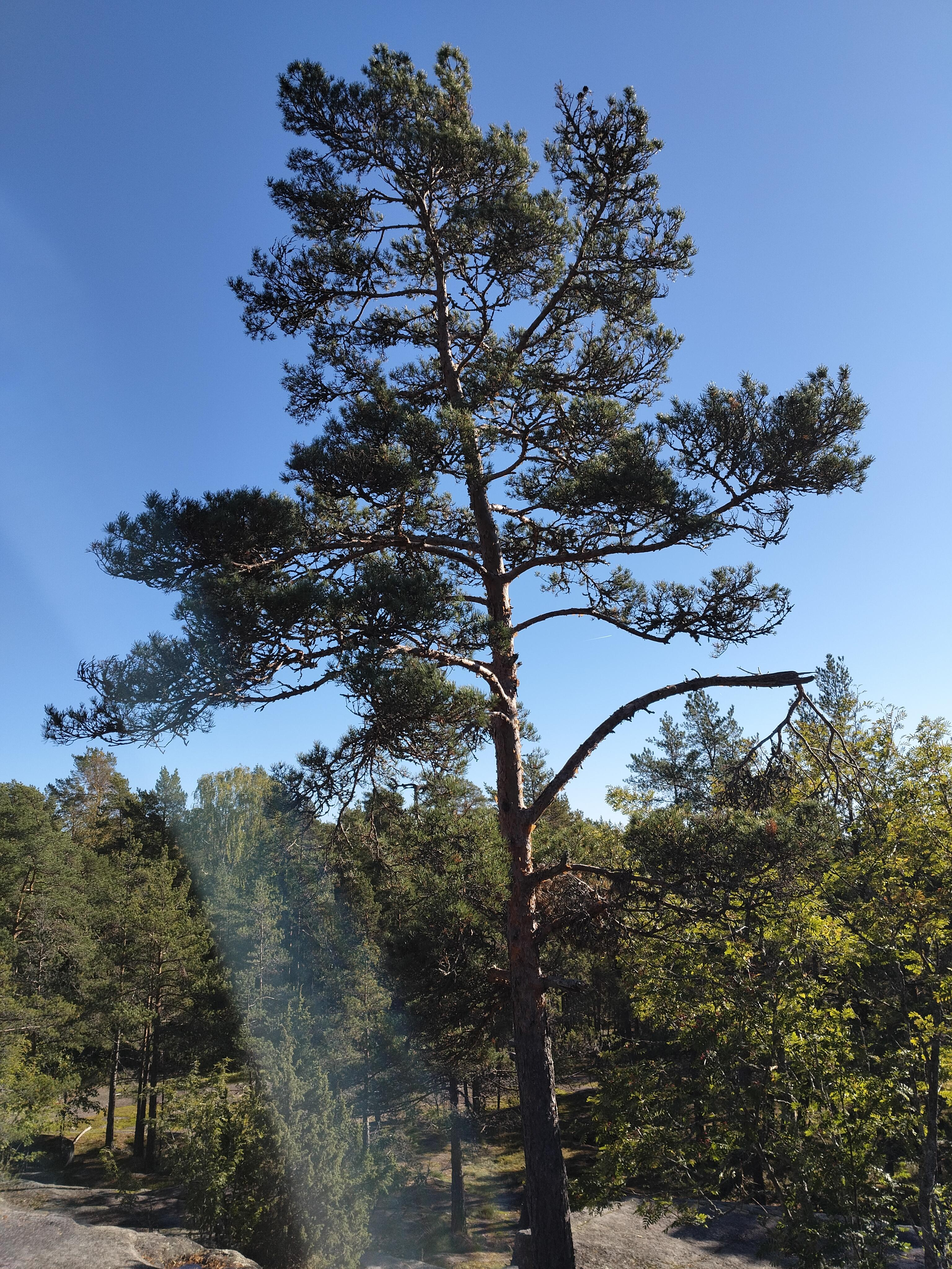Pine: (123, 42, 860, 1266)
